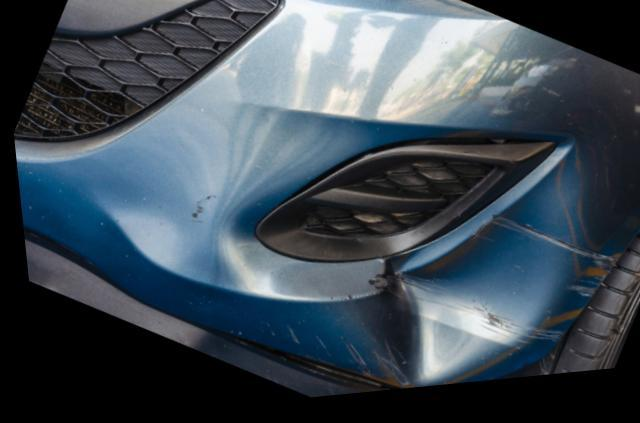dent: (396, 158, 581, 386), (88, 173, 201, 268)
scratch: (518, 254, 617, 355), (273, 333, 403, 397)
